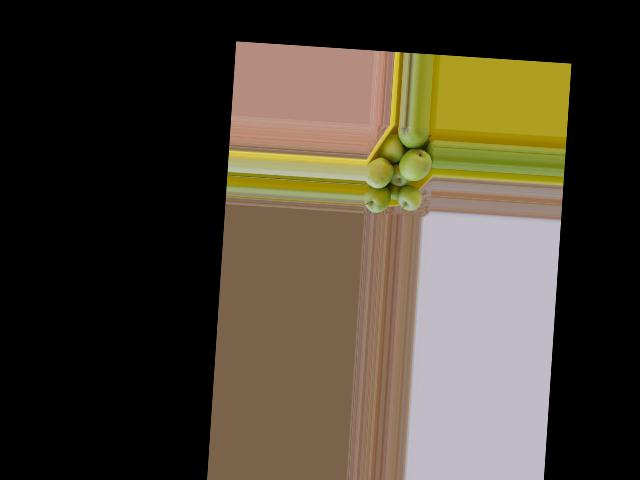apple: (375, 131, 406, 162)
